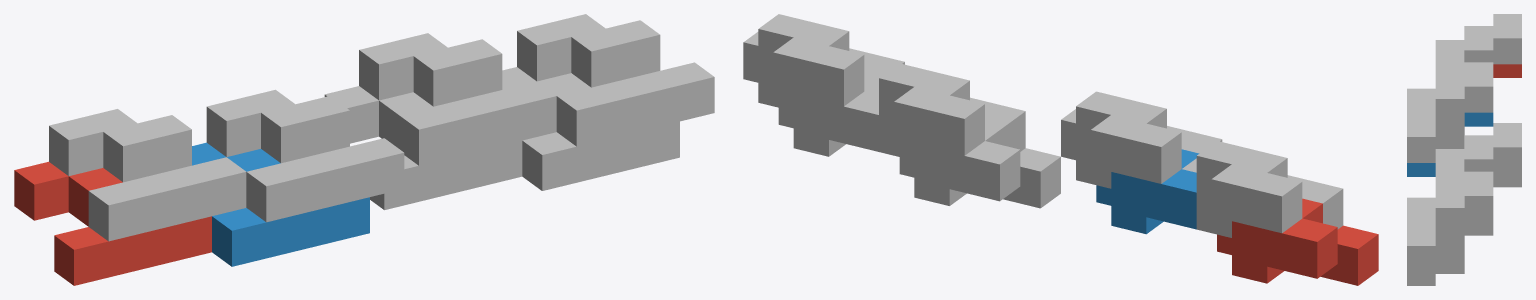
The model's file is tiling.obj.
3 views of the same model, side by side, from view 1: azimuth 30°, elevation 25°; view 2: azimuth 150°, elevation 25°; view 3: azimuth 270°, elevation 25° (orthographic). The views are drawn at different scales.
Visible parts, largest first — view 1: copy_1_domain_8, copy_1_domain_4, copy_1_domain_3, copy_1_domain_7, copy_1_domain_1, copy_1_domain_5, copy_1_domain_6, copy_1_domain_2; view 2: copy_1_domain_3, copy_1_domain_7, copy_1_domain_8, copy_1_domain_4, copy_1_domain_5, copy_1_domain_1, copy_1_domain_2, copy_1_domain_6; view 3: copy_1_domain_8, copy_1_domain_4, copy_1_domain_3, copy_1_domain_7, copy_1_domain_6, copy_1_domain_2, copy_1_domain_5, copy_1_domain_1.
Boxes of the visible parts, x1,y1,x2,y2 form: copy_1_domain_8: [517, 14, 714, 146]; copy_1_domain_4: [206, 89, 404, 222]; copy_1_domain_3: [49, 109, 246, 241]; copy_1_domain_7: [359, 33, 556, 165]; copy_1_domain_1: [14, 161, 211, 285]; copy_1_domain_5: [324, 86, 522, 210]; copy_1_domain_6: [502, 67, 679, 190]; copy_1_domain_2: [192, 142, 369, 266]; copy_1_domain_3: [1182, 141, 1343, 237]; copy_1_domain_7: [864, 63, 1025, 160]; copy_1_domain_8: [743, 14, 904, 111]; copy_1_domain_4: [1061, 91, 1222, 188]; copy_1_domain_5: [899, 121, 1060, 208]; copy_1_domain_1: [1217, 198, 1378, 285]; copy_1_domain_2: [1096, 149, 1199, 234]; copy_1_domain_6: [778, 72, 881, 156]; copy_1_domain_8: [1407, 171, 1493, 271]; copy_1_domain_4: [1407, 62, 1493, 162]; copy_1_domain_3: [1435, 14, 1521, 74]; copy_1_domain_7: [1435, 123, 1521, 183]; copy_1_domain_6: [1407, 222, 1493, 285]; copy_1_domain_2: [1407, 112, 1493, 176]; copy_1_domain_5: [1493, 173, 1521, 187]; copy_1_domain_1: [1493, 64, 1521, 77].
Bounding box in the file's own units: 18 × 3 × 4.
